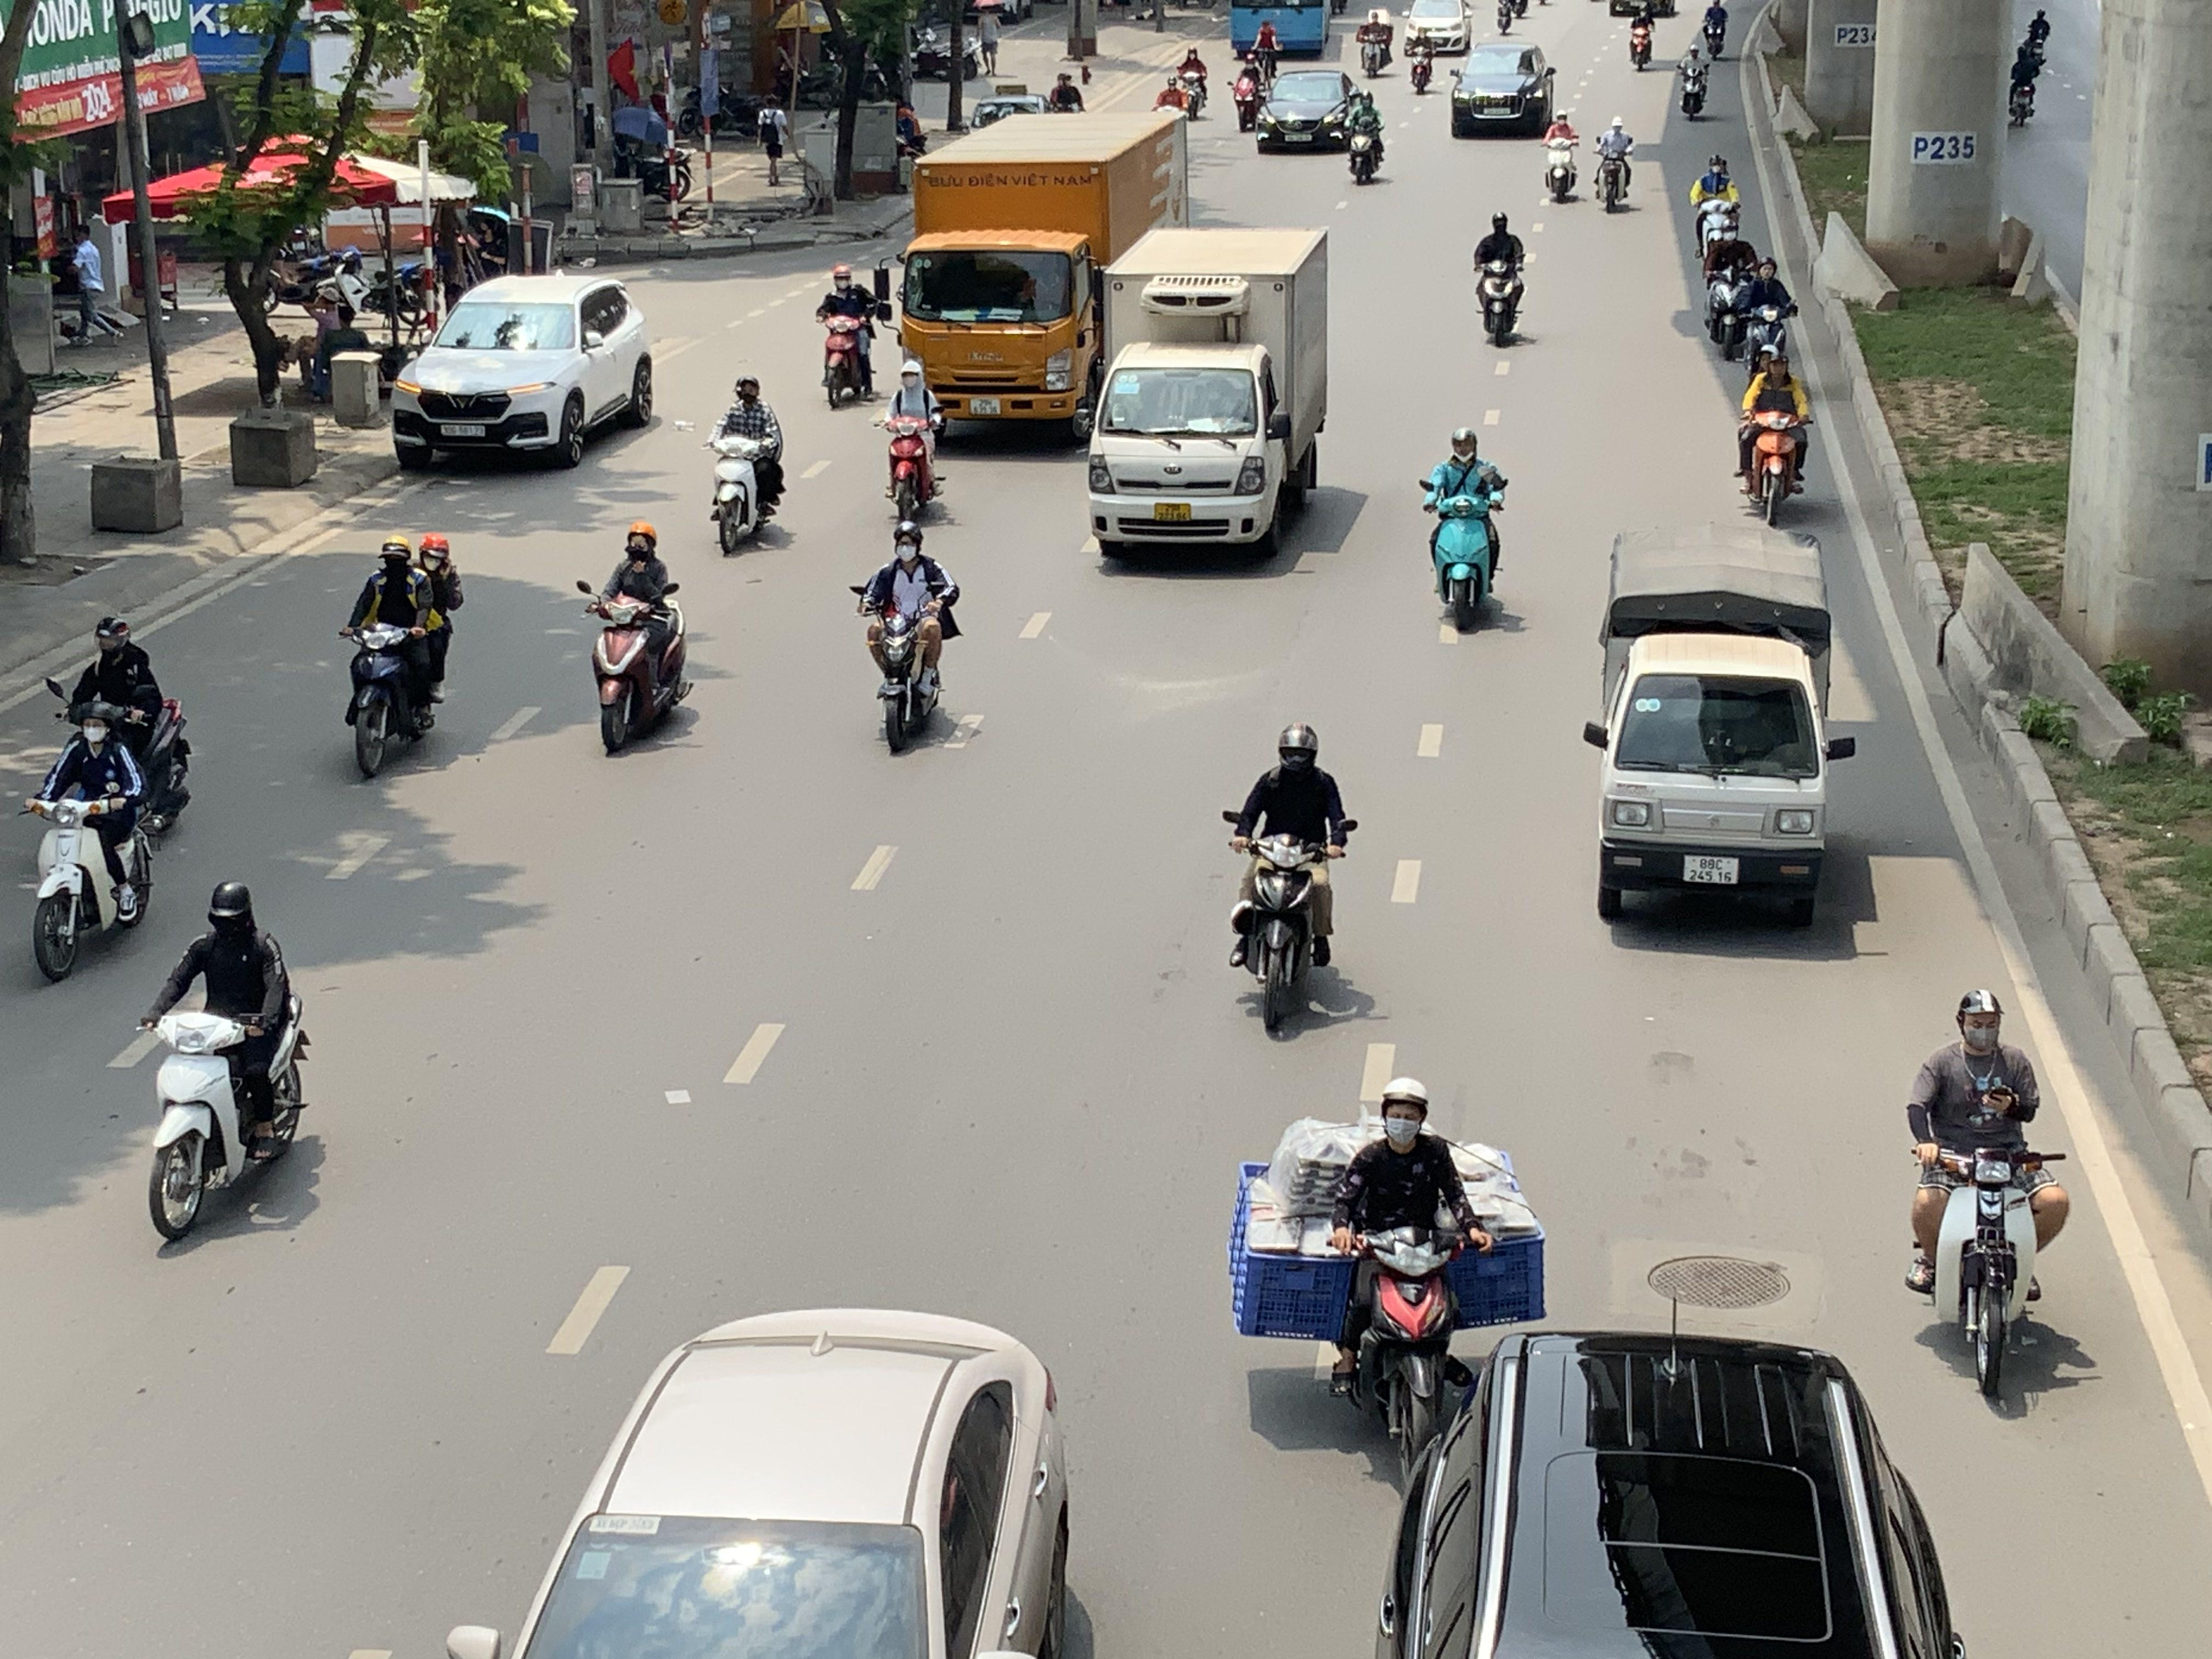BSD: (441, 423, 484, 437)
BSV: (1684, 856, 1738, 884), (1155, 504, 1191, 523), (970, 399, 1000, 415)
car: (388, 274, 658, 471), (1449, 42, 1557, 138), (1254, 64, 1360, 153), (1404, 0, 1472, 54)
motorbike: (1228, 1077, 1545, 1460), (1905, 988, 2066, 1403), (139, 880, 312, 1246), (1226, 721, 1353, 1042), (23, 697, 155, 983), (49, 613, 193, 833), (340, 533, 460, 782), (582, 521, 693, 756), (855, 521, 958, 756), (1421, 427, 1508, 638), (705, 375, 786, 556), (1735, 349, 1811, 526), (880, 357, 949, 519), (817, 265, 881, 408), (1700, 220, 1759, 361), (1472, 209, 1529, 349), (1733, 254, 1797, 375), (1689, 153, 1743, 265), (1592, 113, 1637, 213), (1343, 89, 1388, 185), (2006, 26, 2048, 127), (1541, 110, 1583, 202), (1674, 35, 1712, 122), (1230, 51, 1266, 132), (1357, 5, 1393, 78), (1176, 44, 1211, 120), (1404, 26, 1437, 94), (1627, 2, 1658, 71), (1700, 0, 1731, 61), (1493, 0, 1526, 35)
truck: (1580, 521, 1857, 929), (892, 108, 1188, 444), (1076, 223, 1332, 565)
